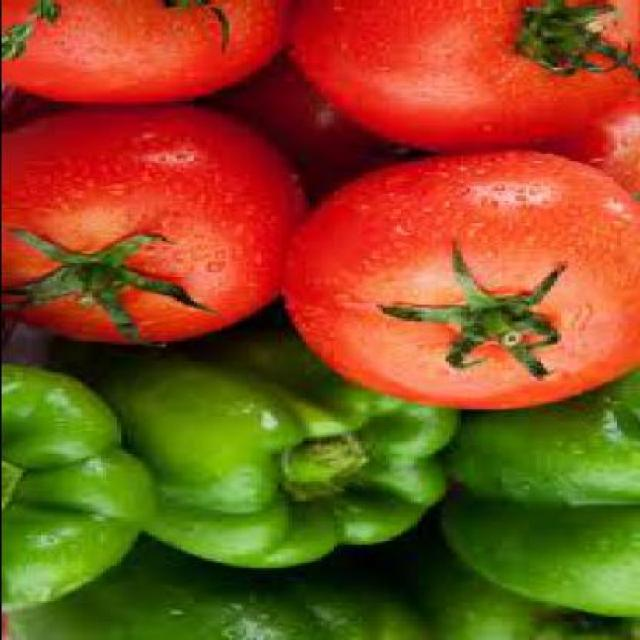BIODEGRADABLE: (77, 332, 465, 572), (283, 154, 639, 414), (3, 107, 314, 351), (283, 2, 639, 152), (448, 374, 638, 621), (3, 532, 432, 638), (4, 368, 161, 612), (4, 3, 287, 105), (209, 62, 409, 201), (411, 535, 638, 640)
